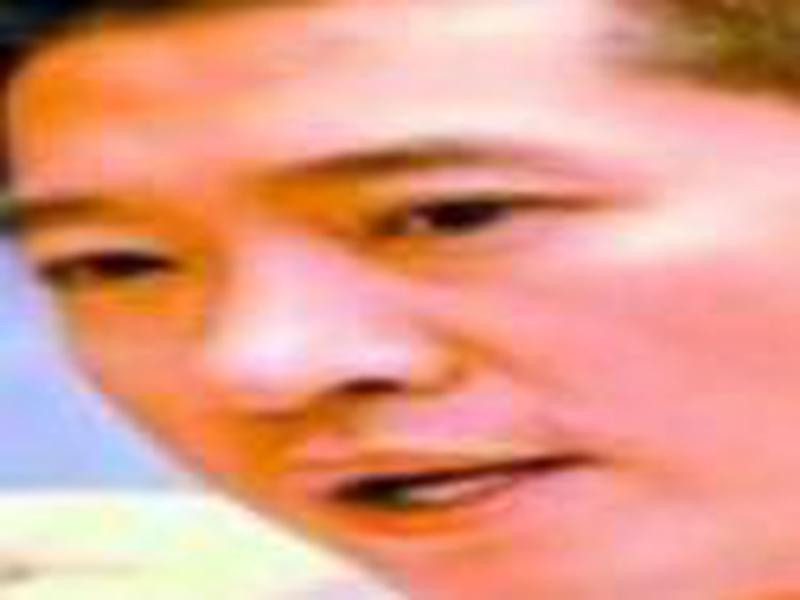without_mask: (11, 51, 775, 600)
